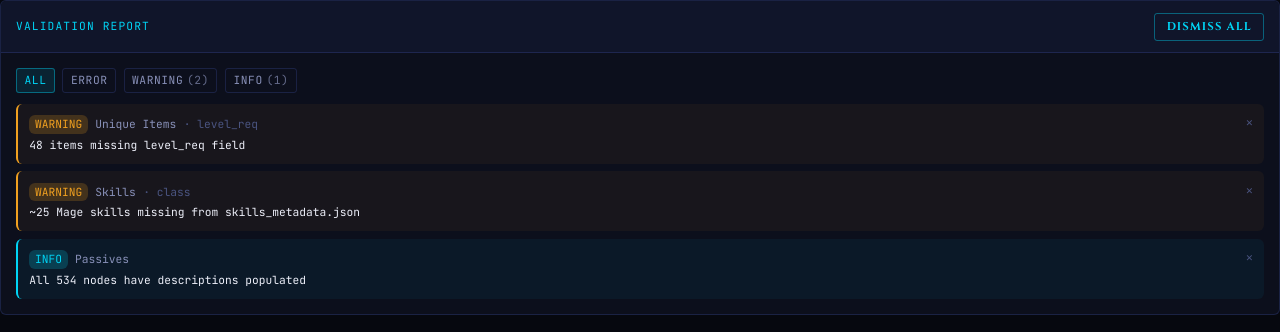
Test: ErrorReportingPanel › filters to show only warnings when warning tab clicked
Click the button "warning(2)": (170, 80) [124,68,217,93]
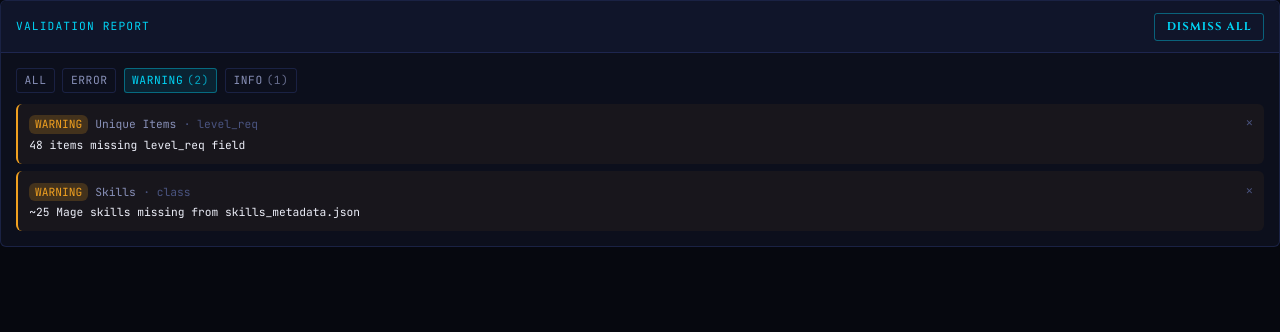
Expected: the text "48 items missing level_req field" is shown, [29,138,245,152]
Expected: the text "All 534 nodes" is gone
